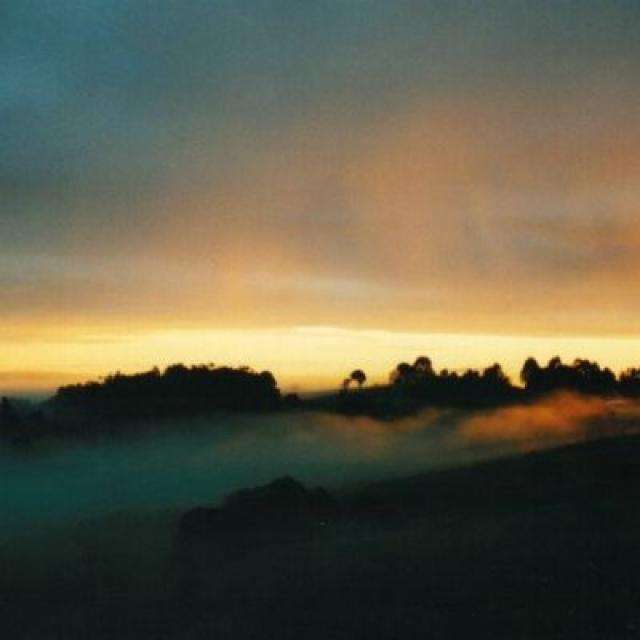Ns: (1, 12, 640, 346)
